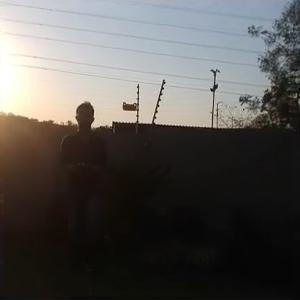follow: (56, 97, 112, 274)
